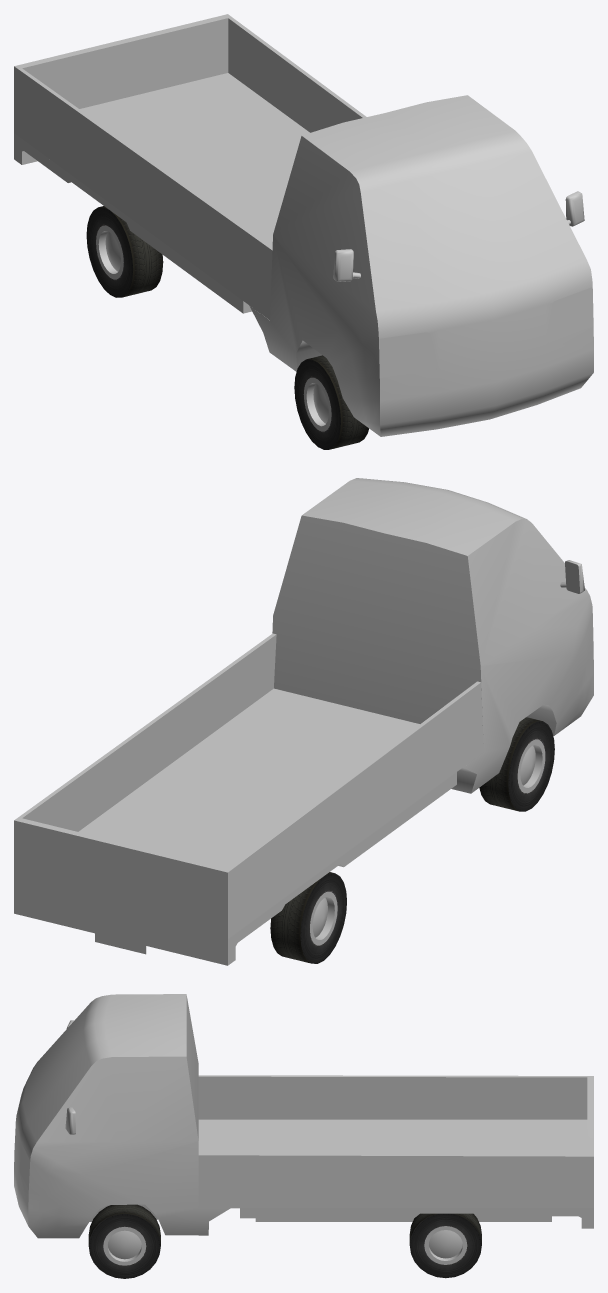
Rendered from Truck-01.fbx.
3 renders of one model, top to bottom at view 1: azimuth 30°, elevation 25°; view 2: azimuth 150°, elevation 25°; view 3: azimuth 270°, elevation 25°, orthographic. The views are drawn at different scales.
Visible parts, largest first — view 1: Car, BR, FR, Car ON; view 2: Car, BR, FR; view 3: Car, FL, RL.
Boxes of the visible parts, x1,y1,x2,y2 form: Car: [14, 14, 593, 436]; BR: [86, 206, 163, 297]; FR: [294, 355, 368, 449]; Car ON: [379, 287, 593, 377]; Car: [14, 478, 593, 965]; BR: [270, 872, 346, 963]; FR: [479, 717, 554, 811]; Car: [14, 994, 593, 1238]; FL: [88, 1204, 160, 1278]; RL: [409, 1213, 481, 1278].
Bounding box in the file's own units: 2.53 × 2.73 × 6.61.
